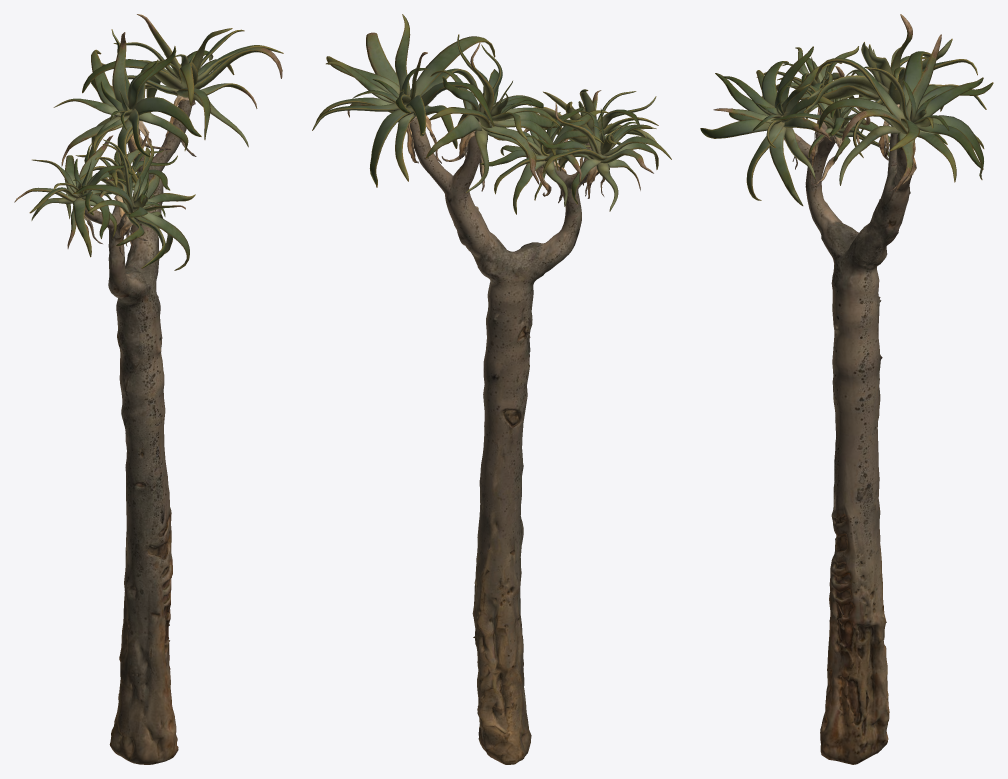
File: quiver-tree-01.glb
The picture shows the model from 3 angles, left to right: view 1: azimuth 30°, elevation 25°; view 2: azimuth 150°, elevation 25°; view 3: azimuth 270°, elevation 25°; orthographic projection. The views are drawn at different scales.
Parts seen in each view (by area): view 1: quiver_tree_01; view 2: quiver_tree_01; view 3: quiver_tree_01.
Boxes of the visible parts, x1=… form: quiver_tree_01: x1=14, y1=14, x2=283, y2=764; quiver_tree_01: x1=312, y1=14, x2=671, y2=764; quiver_tree_01: x1=700, y1=14, x2=993, y2=764.
Size of the model in its own units: 1.18 by 2.72 by 0.9683.
Materials: 2 (2 with a texture image).
